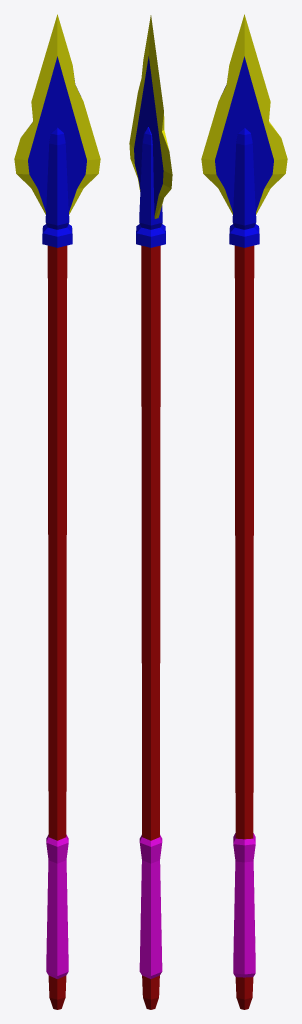
The model's file is Spear_Common_Partisan.fbx.
3 views of the same model, side by side, from view 1: azimuth 90°, elevation 25°; view 2: azimuth 210°, elevation 25°; view 3: azimuth 270°, elevation 25° (orthographic).
Visible parts, largest first — view 1: SM_Wep_Spear_07; view 2: SM_Wep_Spear_07; view 3: SM_Wep_Spear_07.
Part boxes in pixels (x1=…): SM_Wep_Spear_07: x1=14, y1=14, x2=100, y2=1009; SM_Wep_Spear_07: x1=129, y1=15, x2=172, y2=1009; SM_Wep_Spear_07: x1=201, y1=14, x2=287, y2=1009.
Bounding box in the file's own units: 7.21 × 226 × 17.77.
